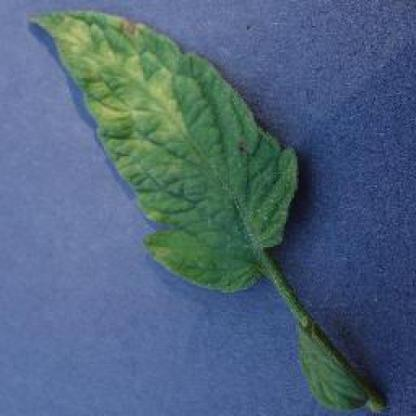Tomato_Leaf_Mold: (30, 11, 300, 291)
